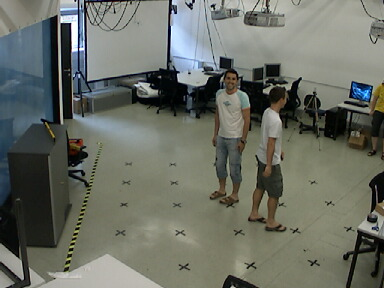person: (210, 66, 251, 209), (256, 88, 295, 237), (371, 80, 384, 161)
